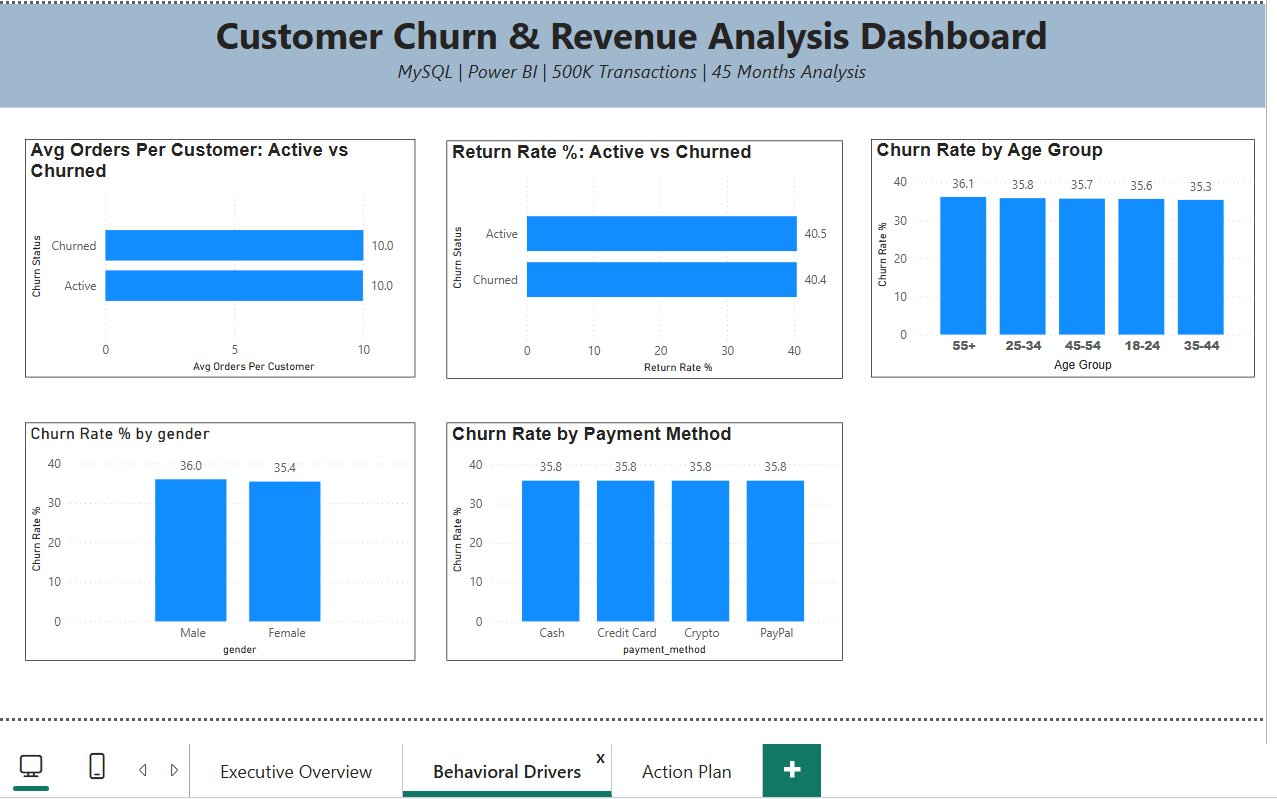

This screenshot's page, from the dashboard's own definition file:
{"tool":"powerbi","page":{"name":"Behavioral Drivers","canvas":[1280,720],"ordinal":1},"visuals":[{"type":"clusteredBarChart","title":"Avg Orders Per Customer: Active vs Churned","fields":{"Category":["ecommerce_sales customer_clean.Churn Status"],"Y":["ecommerce_sales customer_clean.Avg Orders Per Customer"]},"box":[27.3,136.3,393.7,240.8],"z":0},{"type":"clusteredBarChart","title":"Return Rate %: Active vs Churned","fields":{"Category":["ecommerce_sales customer_clean.Churn Status"],"Y":["ecommerce_sales orders_clean.Return Rate %"]},"box":[452.7,137.8,399.8,240.8],"z":1000},{"type":"clusteredColumnChart","title":" Churn Rate by Age Group","fields":{"Category":["ecommerce_sales customer_clean.Age Group"],"Y":["ecommerce_sales customer_clean.Churn Rate %"]},"box":[881.3,136.3,387.6,240.8],"z":2000},{"type":"clusteredColumnChart","fields":{"Category":["ecommerce_sales customer_clean.gender"],"Y":["ecommerce_sales customer_clean.Churn Rate %"]},"box":[27.3,422.5,393.7,240.8],"z":3000},{"type":"clusteredColumnChart","title":"Churn Rate by Payment Method","fields":{"Category":["ecommerce_sales orders_clean.payment_method"],"Y":["ecommerce_sales customer_clean.Churn Rate %"]},"box":[452.7,422.5,399.8,240.8],"z":4000},{"type":"textbox","box":[0,0,1279.5,104.5],"z":4001}]}

Visuals, with their boxes on the page's 1280x720 design canvas (x1, y1, x2, y2). These are canvas units, not pixel positions in the 1277x799 screenshot, which may show the page scaled, cropped or inside an application window:
"Avg Orders Per Customer: Active vs Churned" clusteredBarChart: bbox(27, 136, 421, 377)
"Return Rate %: Active vs Churned" clusteredBarChart: bbox(453, 138, 852, 379)
" Churn Rate by Age Group" clusteredColumnChart: bbox(881, 136, 1269, 377)
clusteredColumnChart - ecommerce_sales customer_clean.gender x ecommerce_sales customer_clean.Churn Rate %: bbox(27, 422, 421, 663)
"Churn Rate by Payment Method" clusteredColumnChart: bbox(453, 422, 852, 663)
textbox: bbox(0, 0, 1280, 104)
